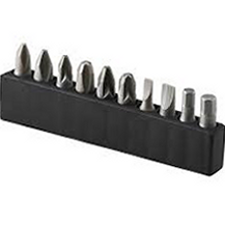screwdriver: (4, 32, 225, 171)
